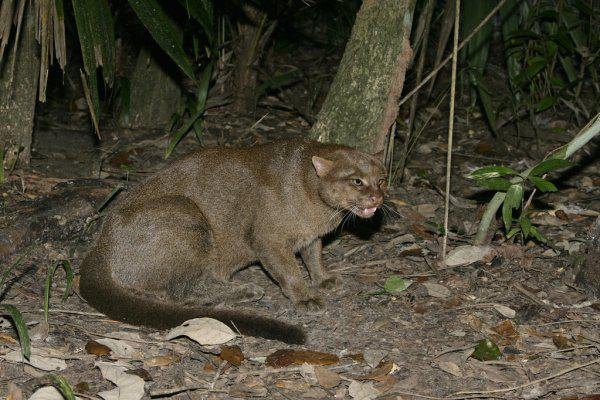Jaguarundi: (71, 131, 407, 350)
